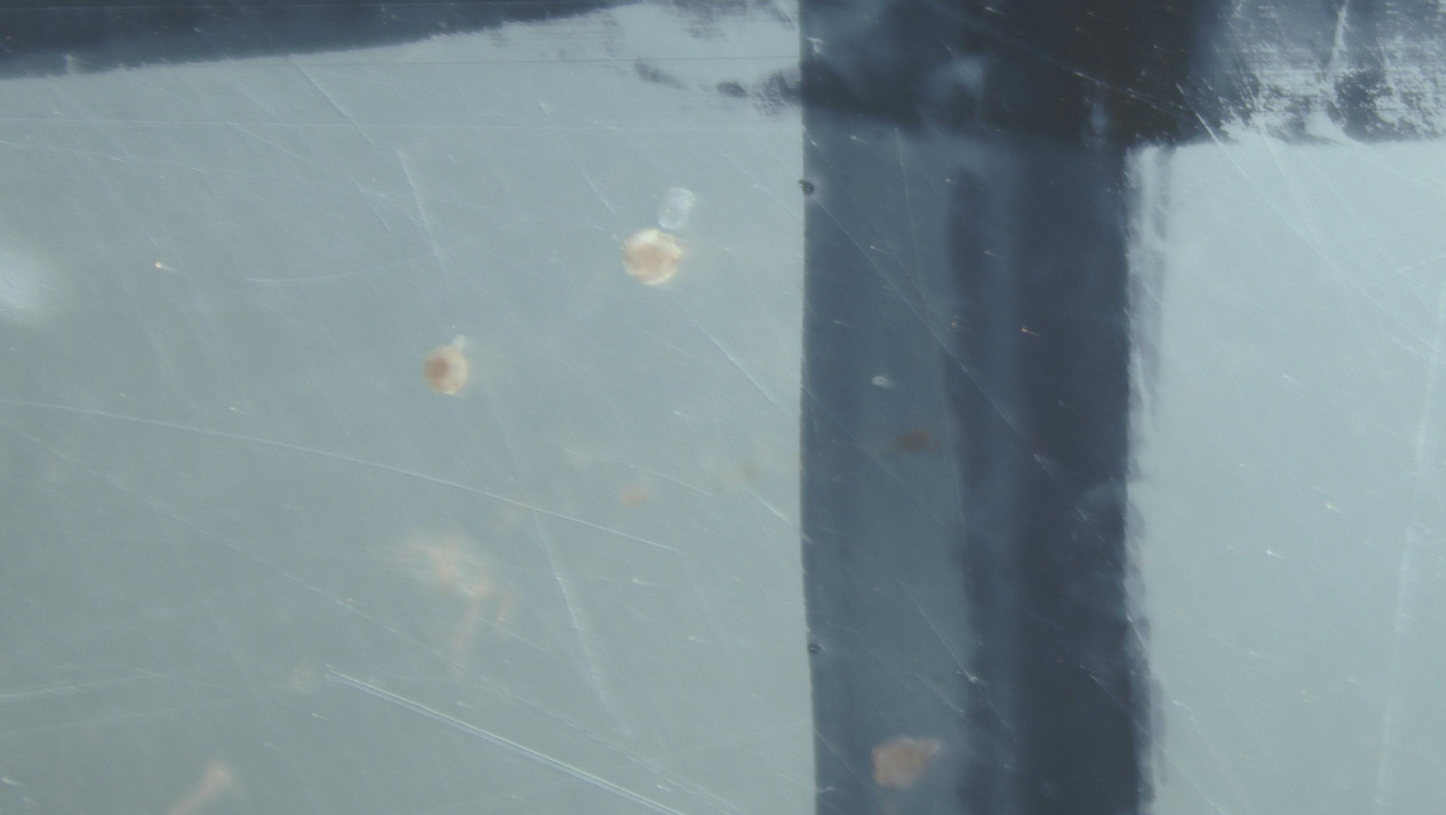dead: (657, 188, 697, 230)
live: (872, 737, 945, 790), (622, 229, 683, 285), (424, 335, 469, 394)
